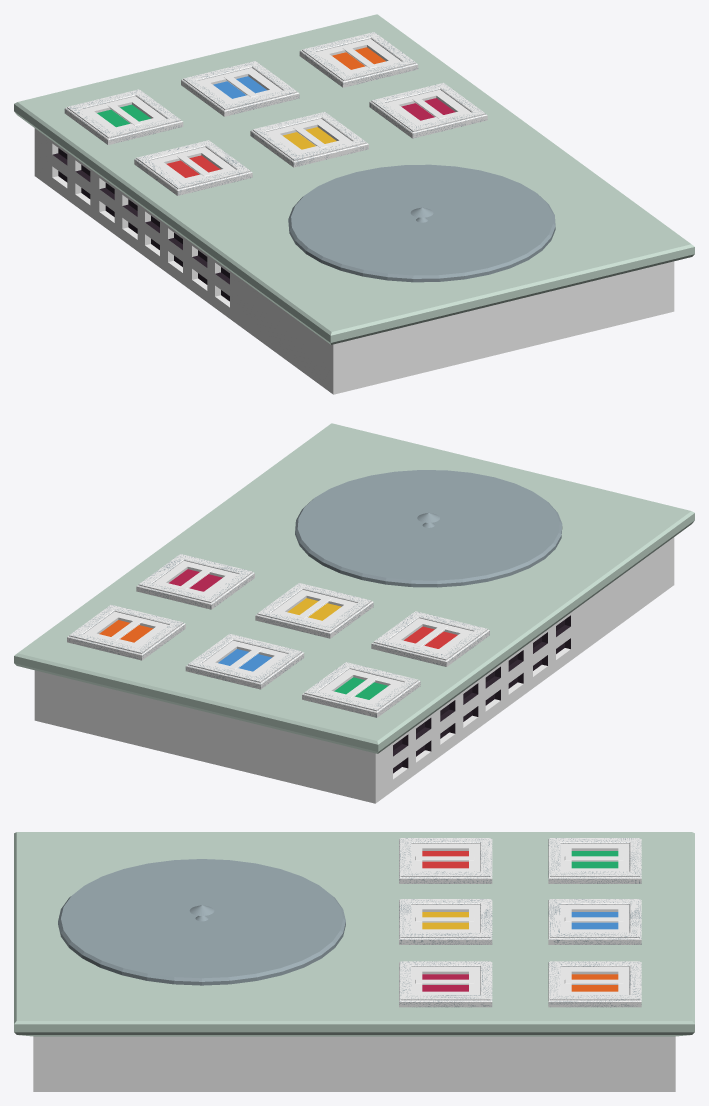
File: MaszynaDoLodow.v1.fbx
3 views of the same model, one above another, from view 1: azimuth 30°, elevation 25°; view 2: azimuth 150°, elevation 25°; view 3: azimuth 270°, elevation 25° (orthographic). The views are drawn at different scales.
Parts seen in each view (by area): view 1: MaszynaDoLodow.v1; view 2: MaszynaDoLodow.v1; view 3: MaszynaDoLodow.v1.
Part boxes in pixels (box(x1,y1,x2,y2)): MaszynaDoLodow.v1: box(14, 14, 694, 394); MaszynaDoLodow.v1: box(14, 423, 694, 803); MaszynaDoLodow.v1: box(14, 832, 694, 1091).
Bounding box in the file's own units: 207 × 48.31 × 312.
